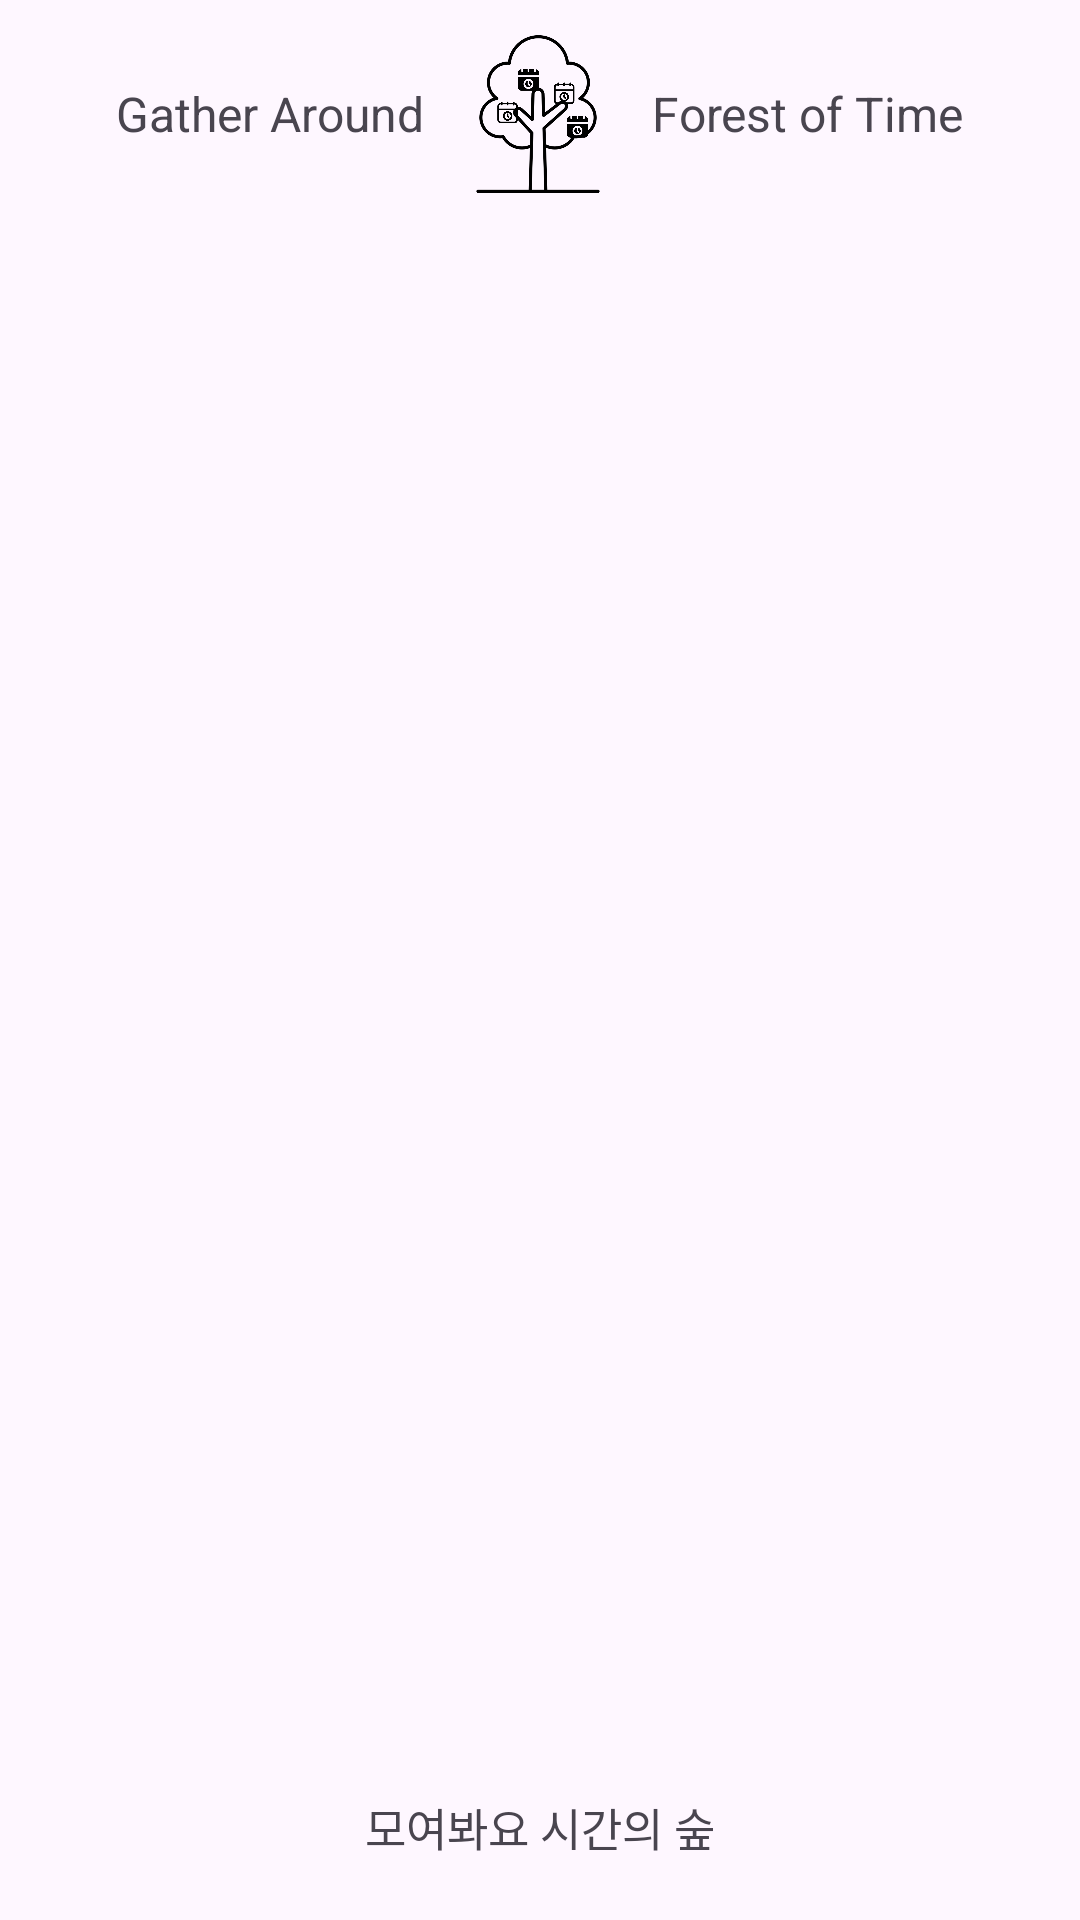

Icons on this 1080*1920 Android screen, each with the point to tap as [x,y]:
tree: [538,114]
